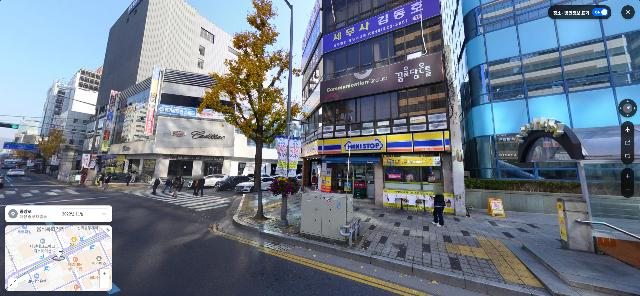ginkgo: (199, 0, 309, 220), (35, 128, 69, 174)
